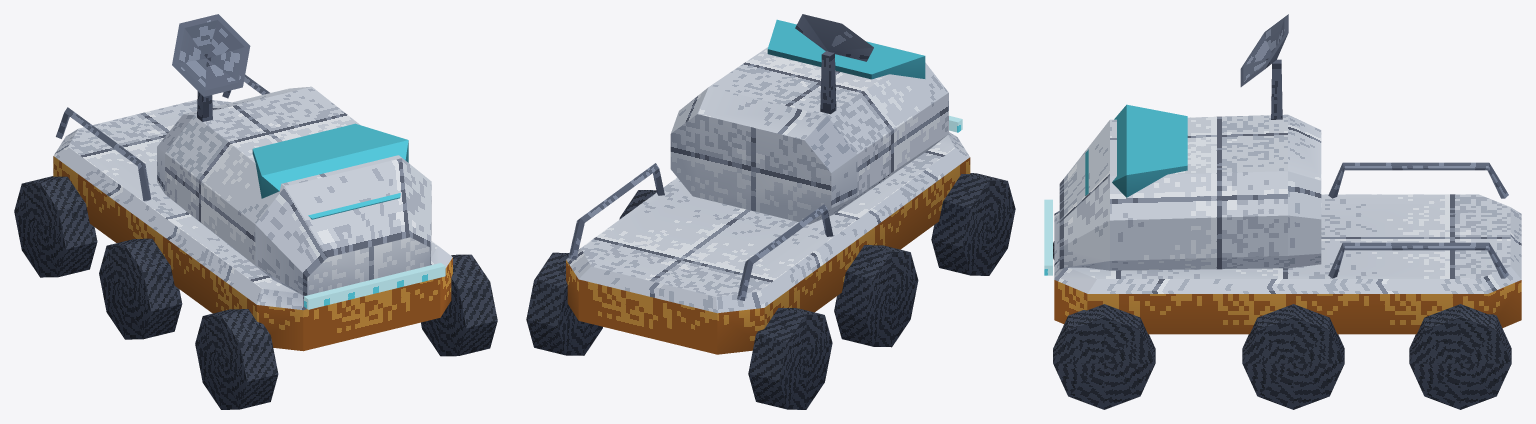
The model's file is ship.rover.glb.
3 views of the same model, side by side, from view 1: azimuth 30°, elevation 25°; view 2: azimuth 150°, elevation 25°; view 3: azimuth 270°, elevation 25° (orthographic). The views are drawn at different scales.
Parts seen in each view (by area): view 1: kit_cab, kit_chassis, kit_wheels, kit_glass, kit_dish, kit_lightbar, kit_deck_rail; view 2: kit_chassis, kit_cab, kit_wheels, kit_glass, kit_deck_rail, kit_dish, kit_mast; view 3: kit_chassis, kit_cab, kit_wheels, kit_glass, kit_deck_rail, kit_dish, kit_lightbar, kit_mast.
Part boxes in pixels (x1=…): kit_cab: x1=157, y1=86, x2=431, y2=295; kit_chassis: x1=53, y1=99, x2=452, y2=351; kit_wheels: x1=14, y1=176, x2=497, y2=409; kit_glass: x1=252, y1=123, x2=408, y2=219; kit_dish: x1=172, y1=14, x2=250, y2=96; kit_lightbar: x1=304, y1=263, x2=445, y2=309; kit_deck_rail: x1=56, y1=75, x2=269, y2=200; kit_chassis: x1=566, y1=132, x2=970, y2=354; kit_cab: x1=670, y1=47, x2=948, y2=224; kit_wheels: x1=526, y1=173, x2=1015, y2=409; kit_glass: x1=767, y1=19, x2=925, y2=79; kit_deck_rail: x1=568, y1=163, x2=833, y2=300; kit_dish: x1=795, y1=14, x2=873, y2=61; kit_mast: x1=820, y1=51, x2=836, y2=114; kit_chassis: x1=1054, y1=194, x2=1521, y2=334; kit_cab: x1=1059, y1=114, x2=1321, y2=270; kit_wheels: x1=1053, y1=241, x2=1511, y2=409; kit_glass: x1=1085, y1=104, x2=1187, y2=197; kit_deck_rail: x1=1328, y1=162, x2=1508, y2=278; kit_dish: x1=1240, y1=14, x2=1288, y2=86; kit_lightbar: x1=1044, y1=199, x2=1052, y2=275; kit_mast: x1=1271, y1=59, x2=1282, y2=119.
Size of the model in its own units: 2.56 by 2.98 by 4.29.
Materials: 8 (7 with a texture image).
